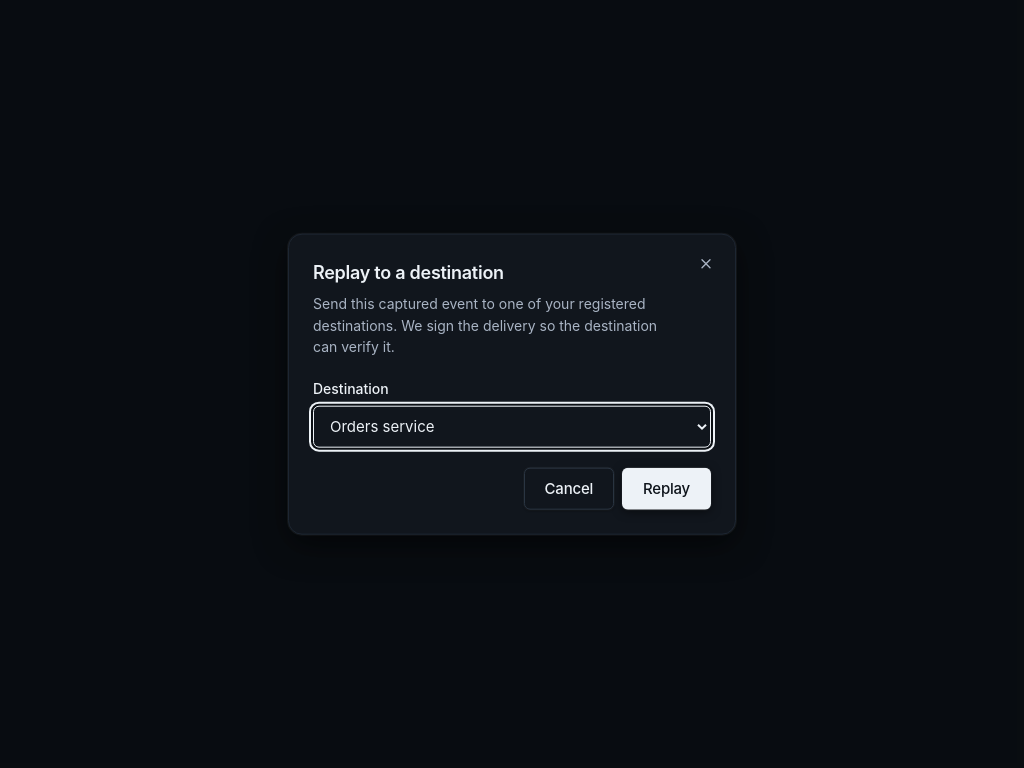
ReplayDialog › keeps the dialog open and shows the error banner on an {ok:false} fault
The width and height of the screenshot is (1024, 768).
Click the button "Replay" at (666, 488), box [622,467,711,509]
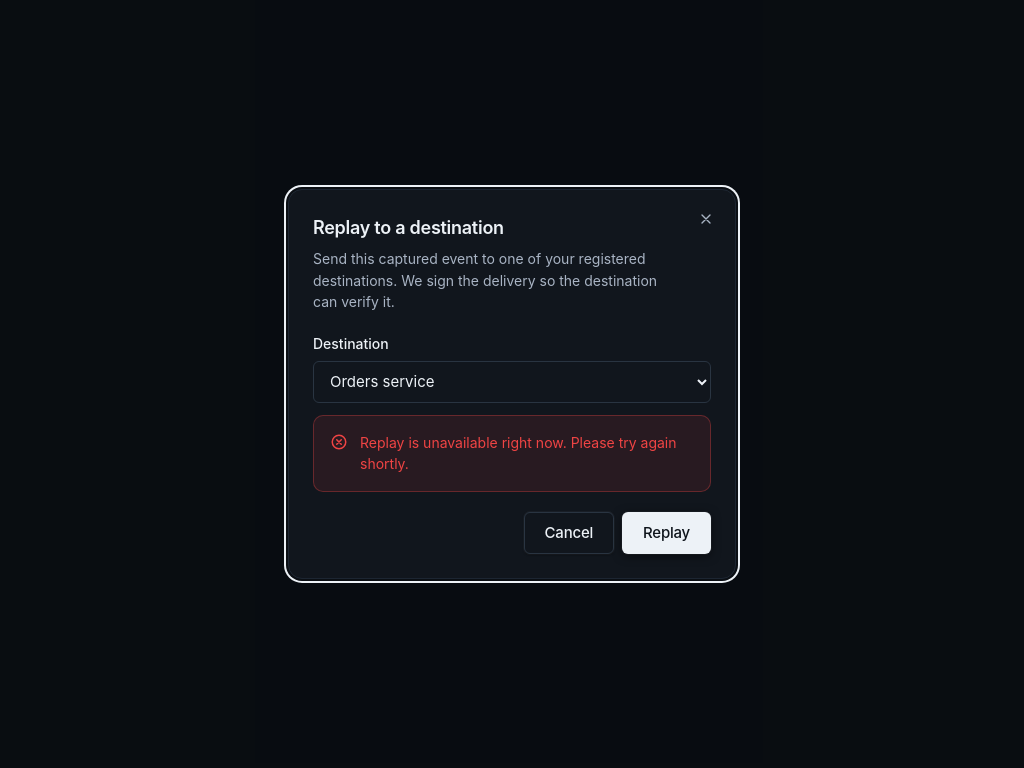
Expected: the button "Replay" is shown, [622,512,711,554]
Expected: the text "Replay is unavailable right now. Please try again shortly." is shown, [360,432,694,475]
